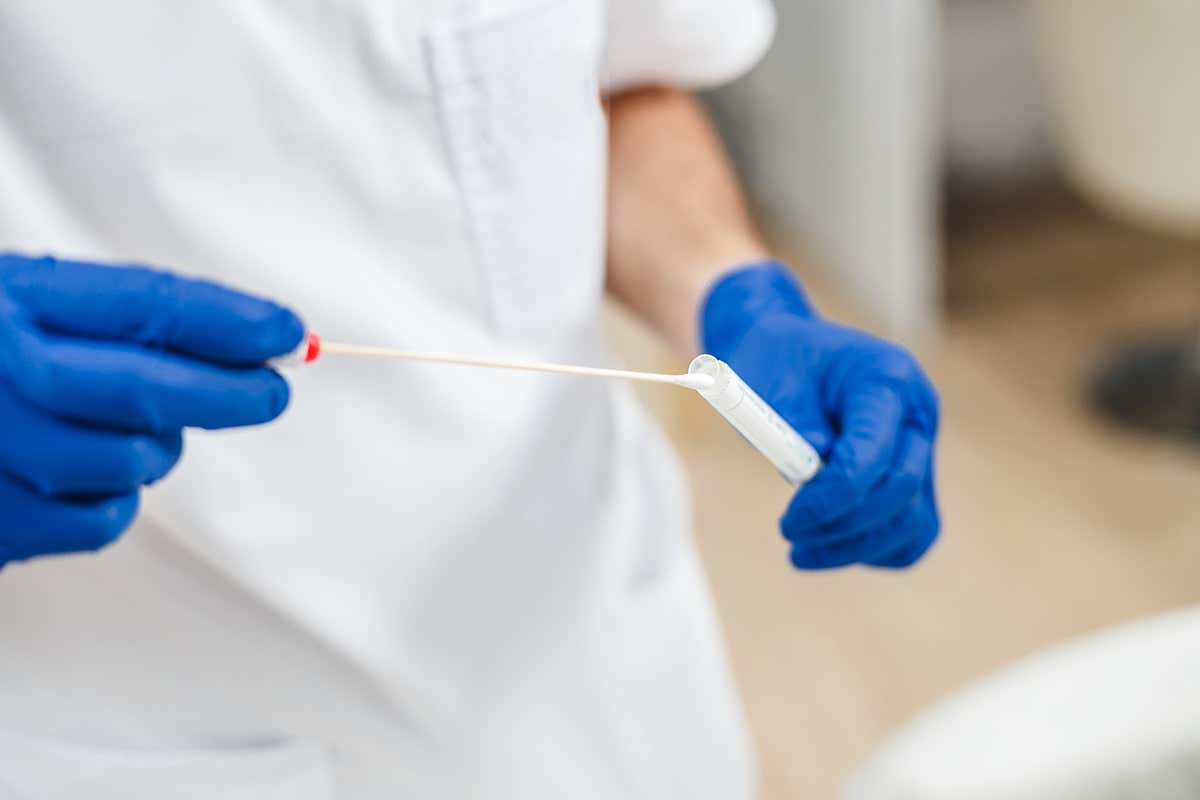Gloves: (1, 246, 320, 579), (697, 260, 945, 583)
